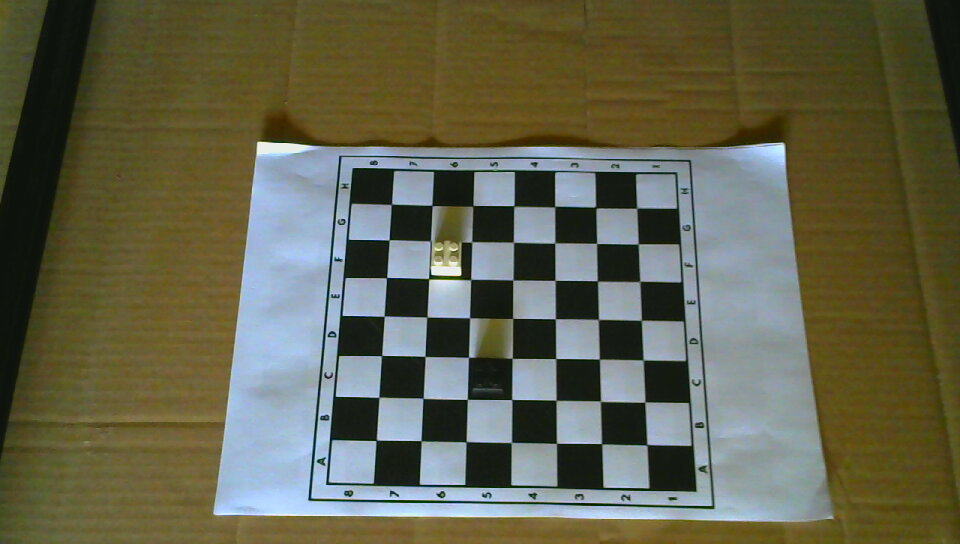bp: (471, 359, 505, 397)
wp: (430, 239, 462, 277)
